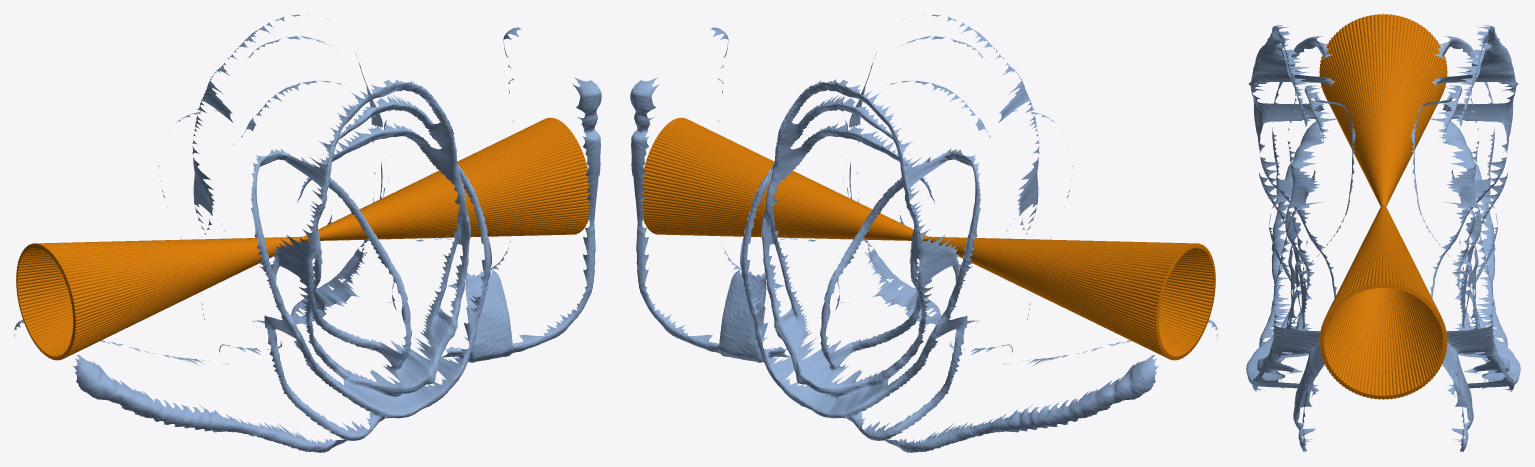
File: A20023514_6145-37-530-7659_DigitalTwin.glb
3 renders of one model, left to right at view 1: azimuth 30°, elevation 25°; view 2: azimuth 150°, elevation 25°; view 3: azimuth 270°, elevation 25°, orthographic. The views are drawn at different scales.
Parts seen in each view (by area): view 1: world; view 2: world; view 3: world.
Boxes of the visible parts, x1,y1,x2,y2 form: world: (14, 14, 601, 452); world: (630, 14, 1217, 452); world: (1246, 14, 1520, 452).
Size of the model in its own units: 520 by 335 by 223.
